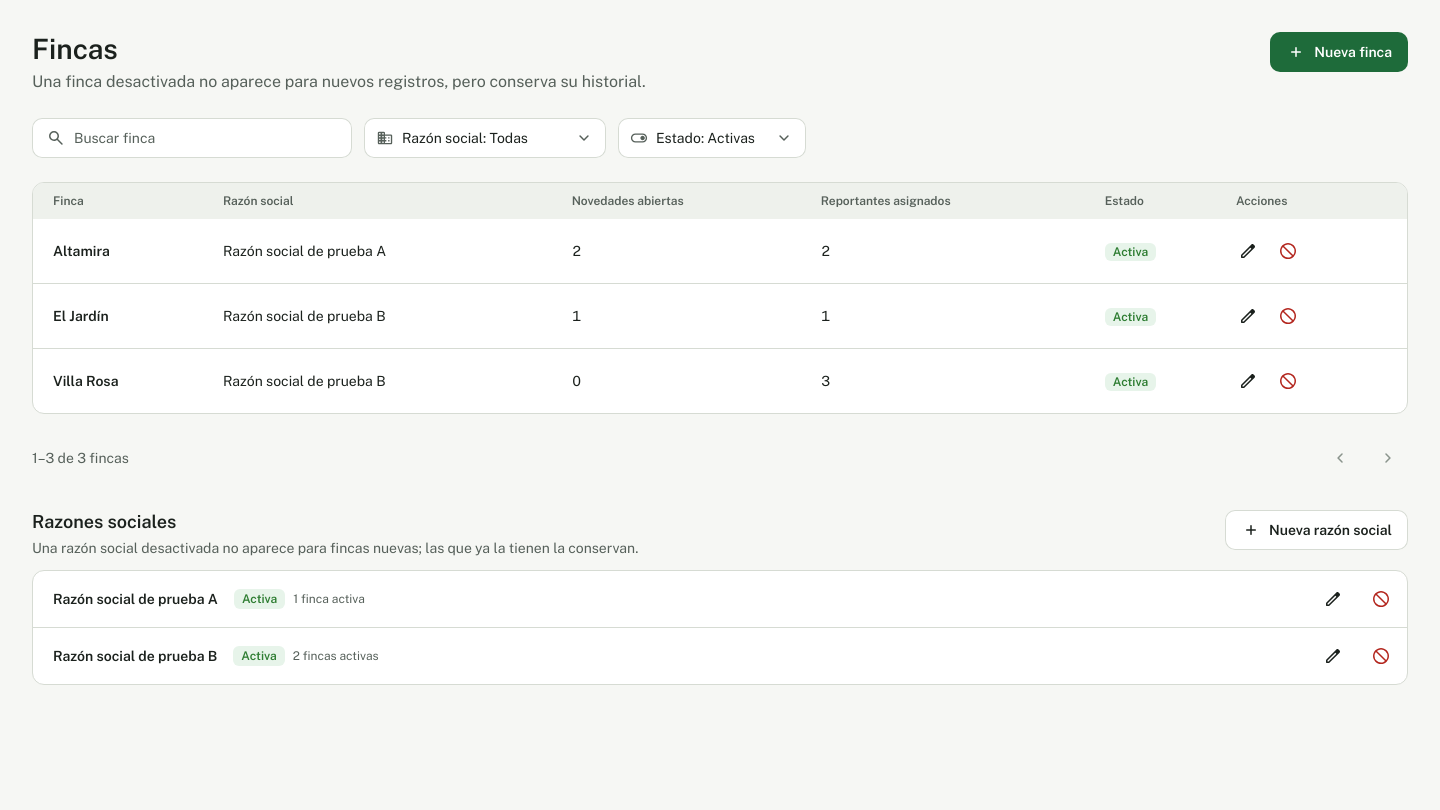
it: Pantalla 30 · Fincas (RF-04 / CU-04) › RF-04: el filtro de estado muestra las inactivas o todas
Expected: the table is shown, [33,183,1407,413]
Select "Estado: Inactivas" in the dropdown named "Estado" at (712, 138), box [618,118,806,158]
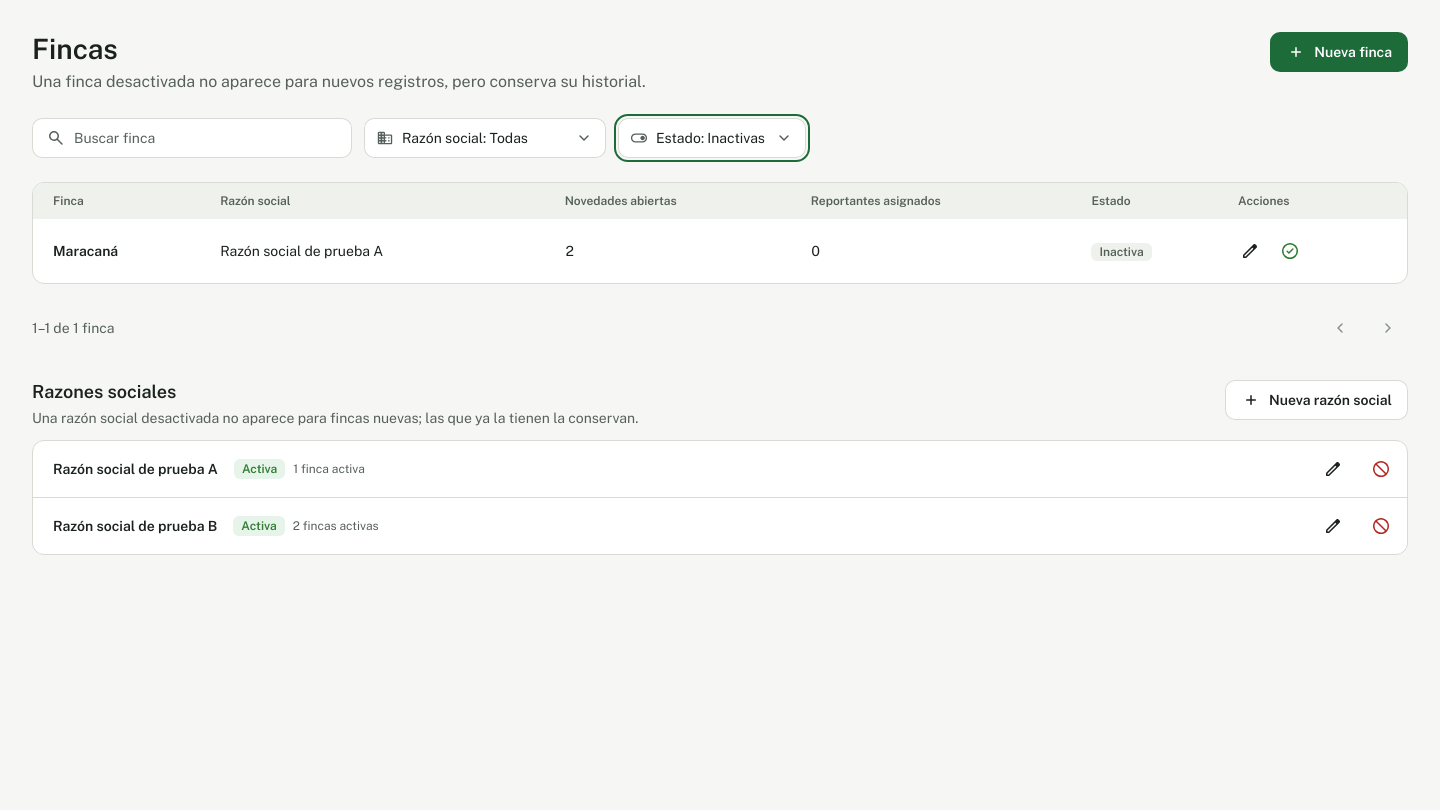
Select "Estado: Todas" in the dropdown named "Estado" at (712, 138), box [618,118,806,158]
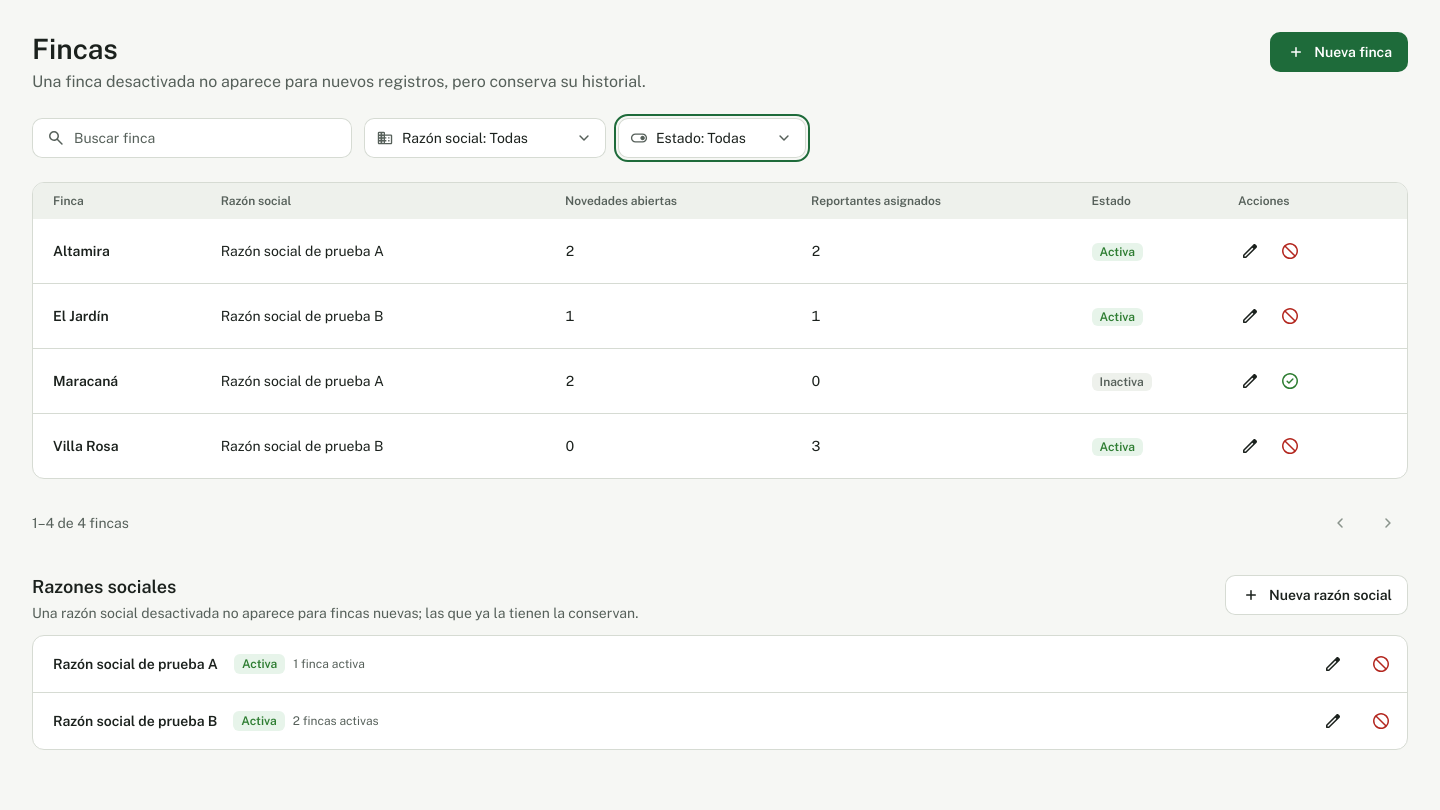
Expected: the text "1–4 de 4 fincas" is shown, [32,513,129,533]
